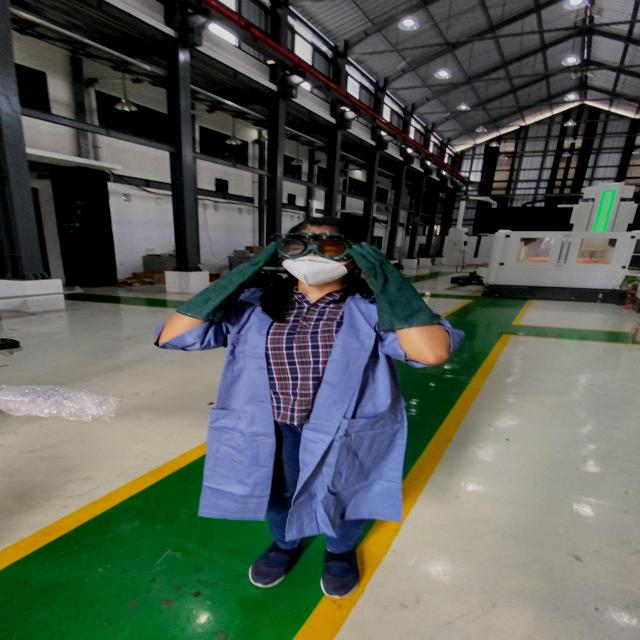face_mask: (272, 233, 364, 285)
glasses: (269, 229, 369, 262)
hand_glove: (344, 240, 413, 290), (229, 237, 292, 289)
head_nohelmet: (287, 212, 369, 239)
person: (148, 210, 471, 608)
shoes: (308, 543, 378, 602), (244, 539, 312, 590)
